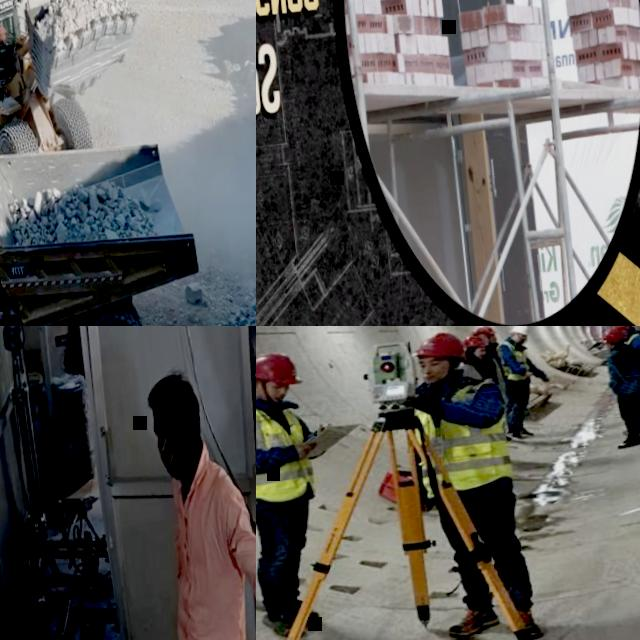Hardhat: (414, 329, 469, 365), (256, 349, 303, 389), (460, 334, 490, 350), (602, 327, 627, 343), (506, 326, 530, 337), (476, 326, 496, 335), (611, 326, 635, 329)
Mask: (158, 438, 176, 478), (516, 336, 527, 345)
NO-Hardhat: (146, 369, 200, 418)
NO-Mask: (420, 368, 446, 385), (261, 389, 288, 405), (475, 352, 484, 361), (606, 343, 613, 349)
NO-Safety Vest: (157, 463, 253, 640), (463, 356, 507, 404), (608, 344, 640, 398), (486, 345, 501, 370), (0, 27, 7, 43)
Person: (395, 326, 547, 640), (146, 353, 256, 640), (256, 348, 334, 638), (493, 326, 556, 441), (470, 326, 516, 445), (601, 326, 640, 449), (608, 326, 640, 436), (462, 333, 500, 386), (0, 20, 9, 43)
Safety Vest: (406, 373, 518, 502), (256, 395, 318, 513), (500, 338, 532, 380), (625, 331, 640, 347)
vehicle: (0, 89, 220, 326), (0, 0, 151, 163)
